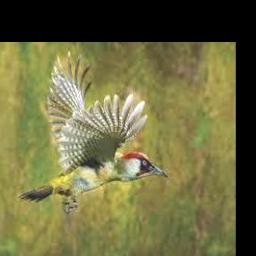Woodpecker: (17, 51, 168, 213)
